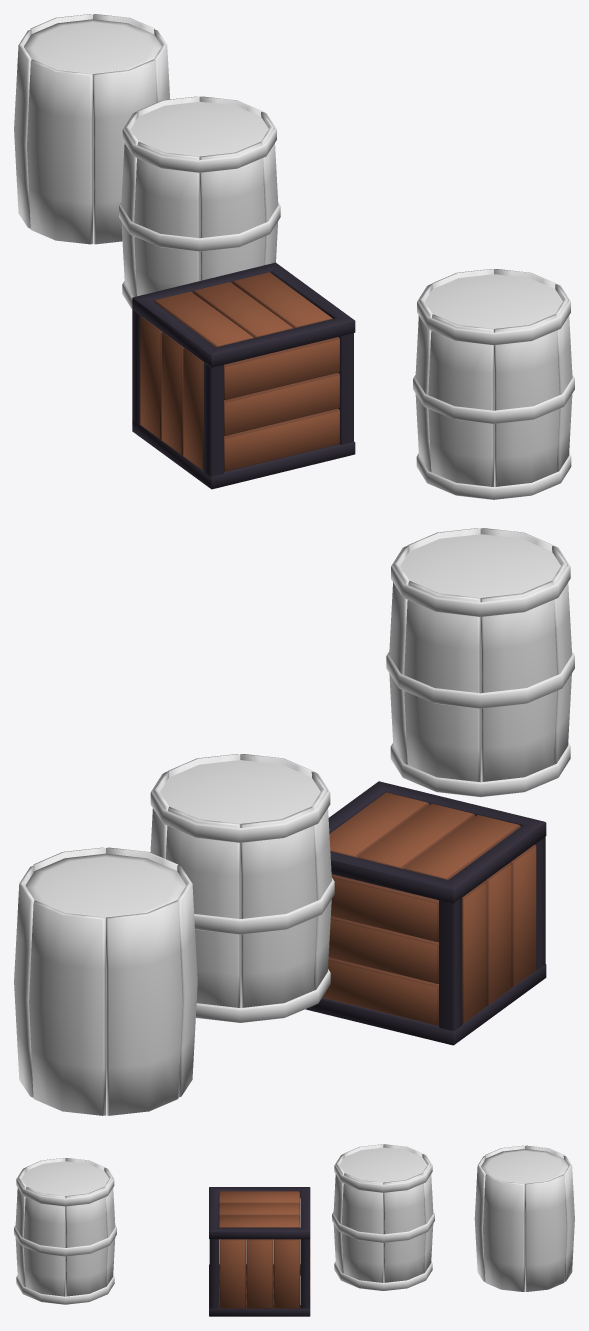
The model's file is barrel-crate.fbx.
The picture shows the model from 3 angles, top to bottom: view 1: azimuth 30°, elevation 25°; view 2: azimuth 150°, elevation 25°; view 3: azimuth 270°, elevation 25°; orthographic projection. The views are drawn at different scales.
Visible parts, largest first — view 1: env-crate-1, env-barrel-2, env-barrel-1, env-barrel-1-pieces.007, env-barrel-1-pieces.006, env-barrel-1-pieces.001, env-barrel-1-pieces.008, env-barrel-1-pieces.005; view 2: env-crate-1, env-barrel-2, env-barrel-1, env-barrel-1-pieces, env-barrel-1-pieces.008, env-barrel-1-pieces.001, env-barrel-1-pieces.007, env-barrel-1-pieces.004; view 3: env-barrel-2, env-barrel-1, env-crate-1, env-barrel-1-pieces.005, env-barrel-1-pieces.004, env-barrel-1-pieces.001, env-barrel-1-pieces, env-barrel-1-pieces.006.
Part boxes in pixels (x1,y1,x2,y2): env-crate-1: (132,262,355,489); env-barrel-2: (413,269,574,499); env-barrel-1: (119,96,280,309); env-barrel-1-pieces.007: (27,59,92,244); env-barrel-1-pieces.006: (93,59,156,244); env-barrel-1-pieces.001: (24,19,161,73); env-barrel-1-pieces.008: (14,29,31,228); env-barrel-1-pieces.005: (154,29,169,102); env-crate-1: (305,781,546,1045); env-barrel-2: (386,528,574,797); env-barrel-1: (150,754,334,1022); env-barrel-1-pieces: (29,900,105,1115); env-barrel-1-pieces.008: (106,900,182,1115); env-barrel-1-pieces.001: (25,853,186,917); env-barrel-1-pieces.007: (177,865,197,1097); env-barrel-1-pieces.004: (14,865,34,1097); env-barrel-2: (14,1158,116,1304); env-barrel-1: (332,1144,434,1290); env-crate-1: (209,1187,310,1316); env-barrel-1-pieces.005: (483,1174,524,1291); env-barrel-1-pieces.004: (525,1174,566,1291); env-barrel-1-pieces.001: (481,1149,568,1183); env-barrel-1-pieces: (563,1155,574,1281); env-barrel-1-pieces.006: (474,1155,485,1281).
Size of the model in its own units: 1.86 by 1.73 by 5.95.
